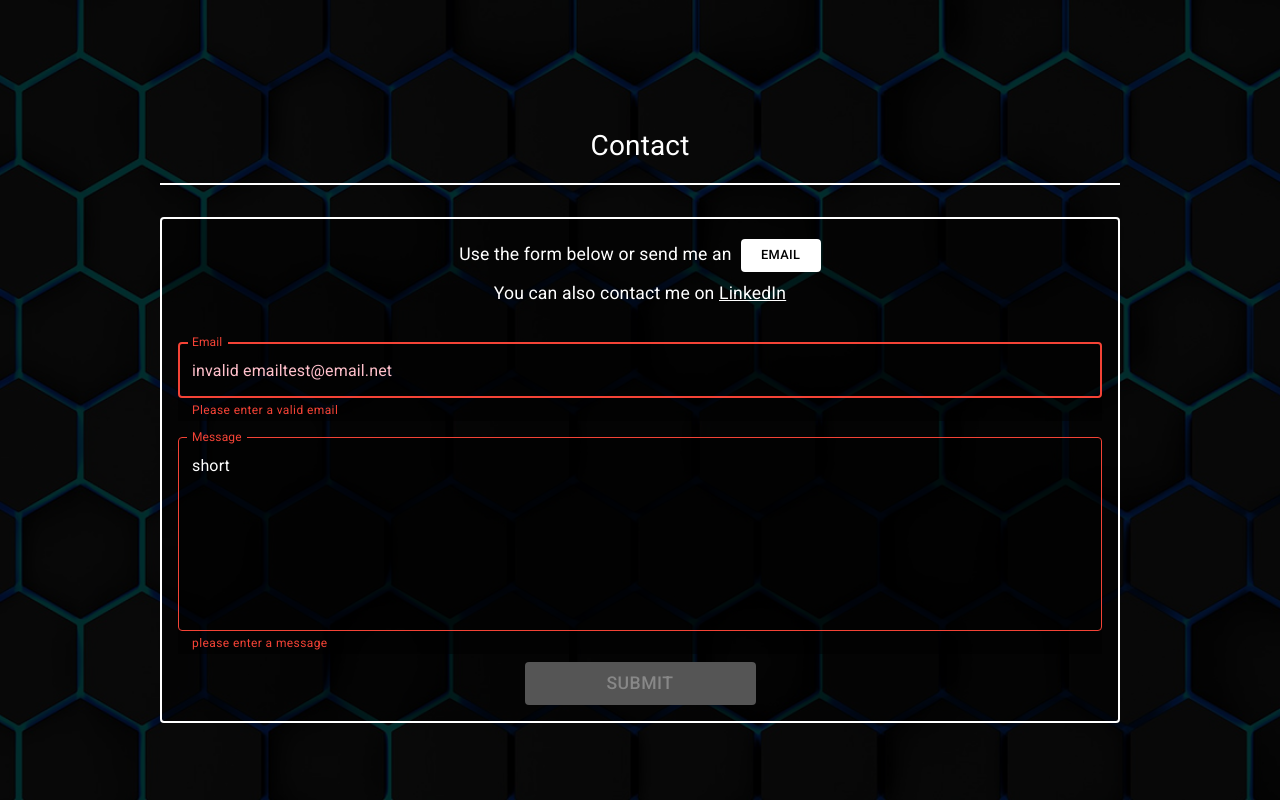
Contact form › focuses the message input, blurs the input, then re-focuses the input and enters a valid message
(page scrolled)
Click the text box named "message": (640, 535) x1=192 y1=454 x2=1088 y2=615
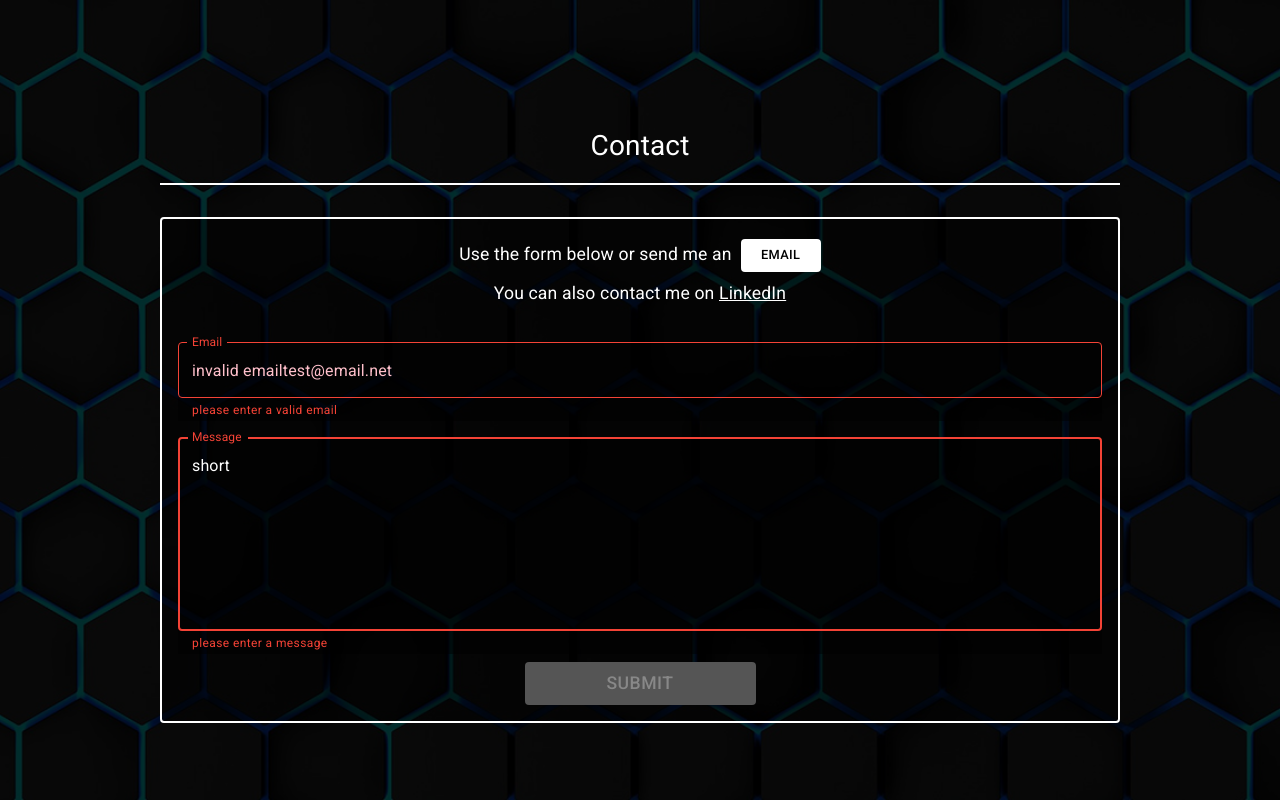
Click the field named "email": (640, 370) x1=178 y1=342 x2=1102 y2=398
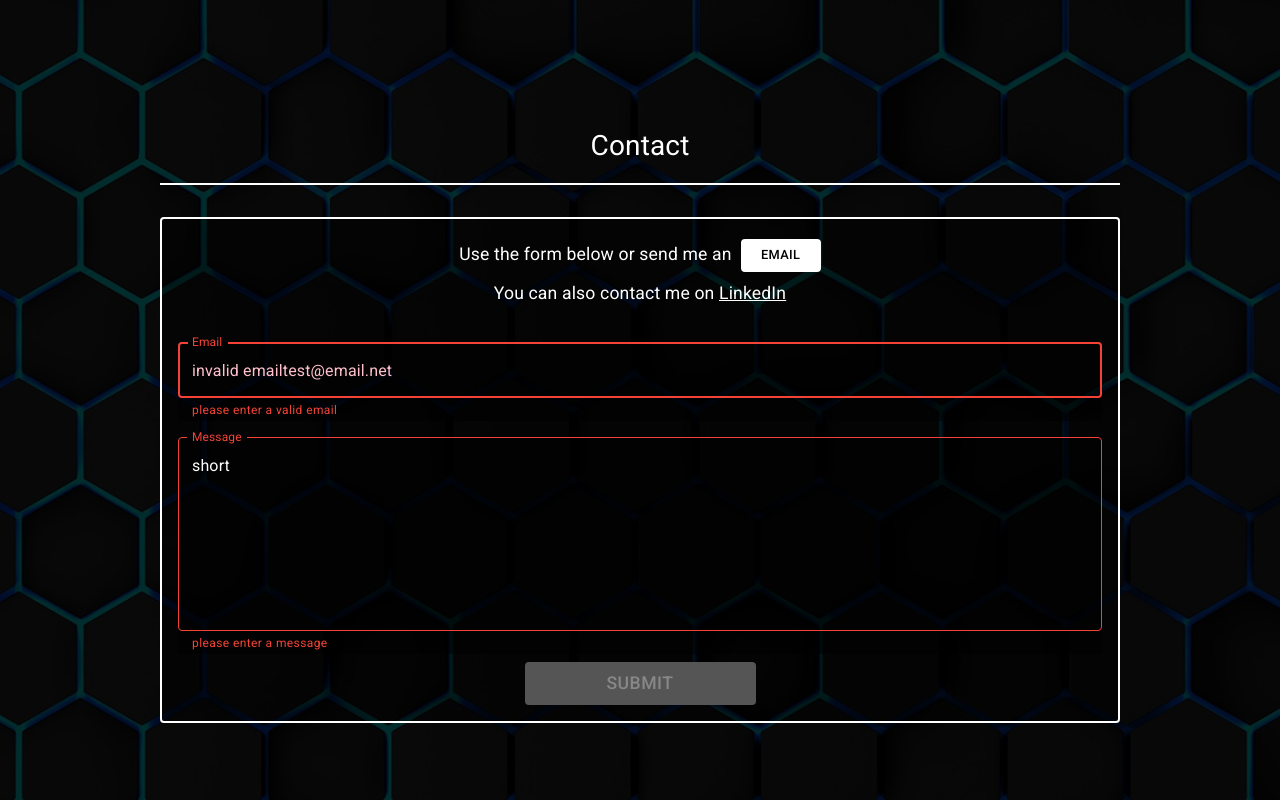
Click the text box named "message": (640, 535) x1=192 y1=454 x2=1088 y2=615
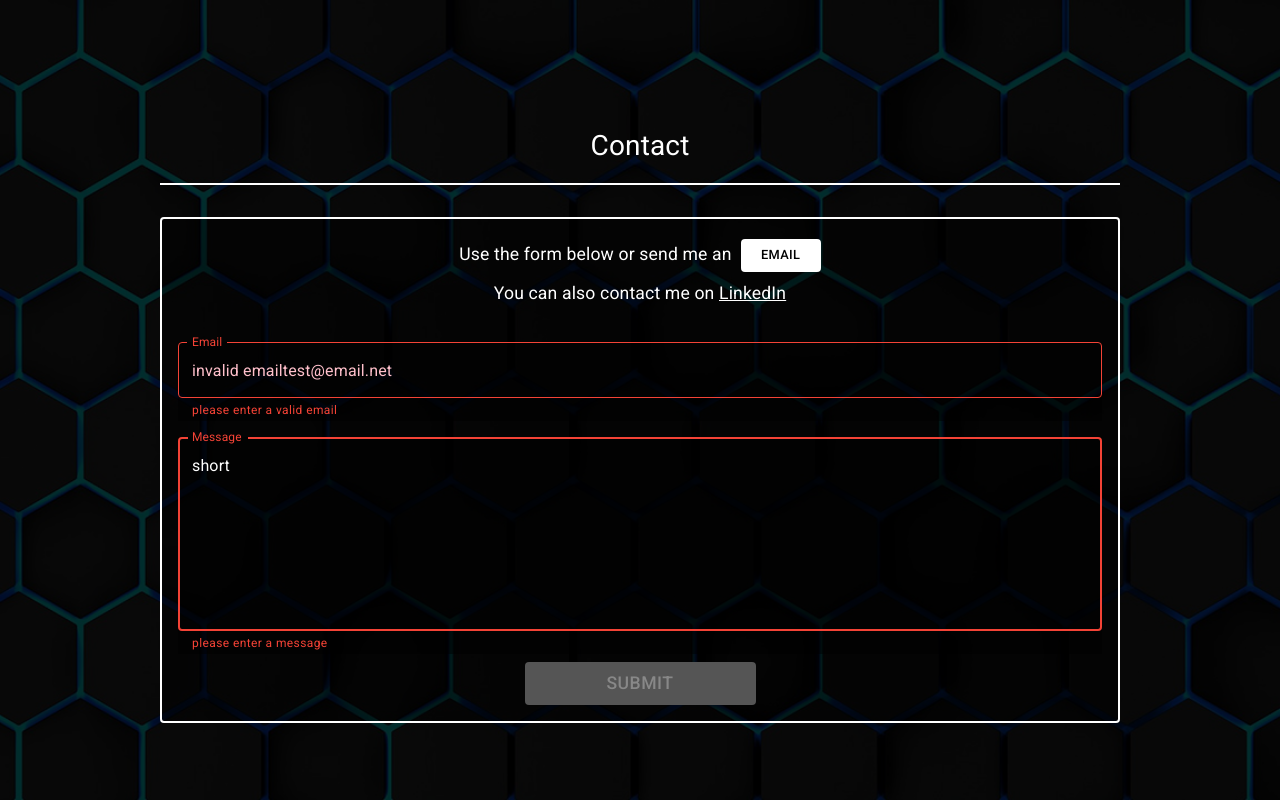
Expected: the text "please enter a message" is shown, x1=192 y1=636 x2=328 y2=650
In the text box named "message": (640, 535) x1=192 y1=454 x2=1088 y2=615, type "a valid test message"
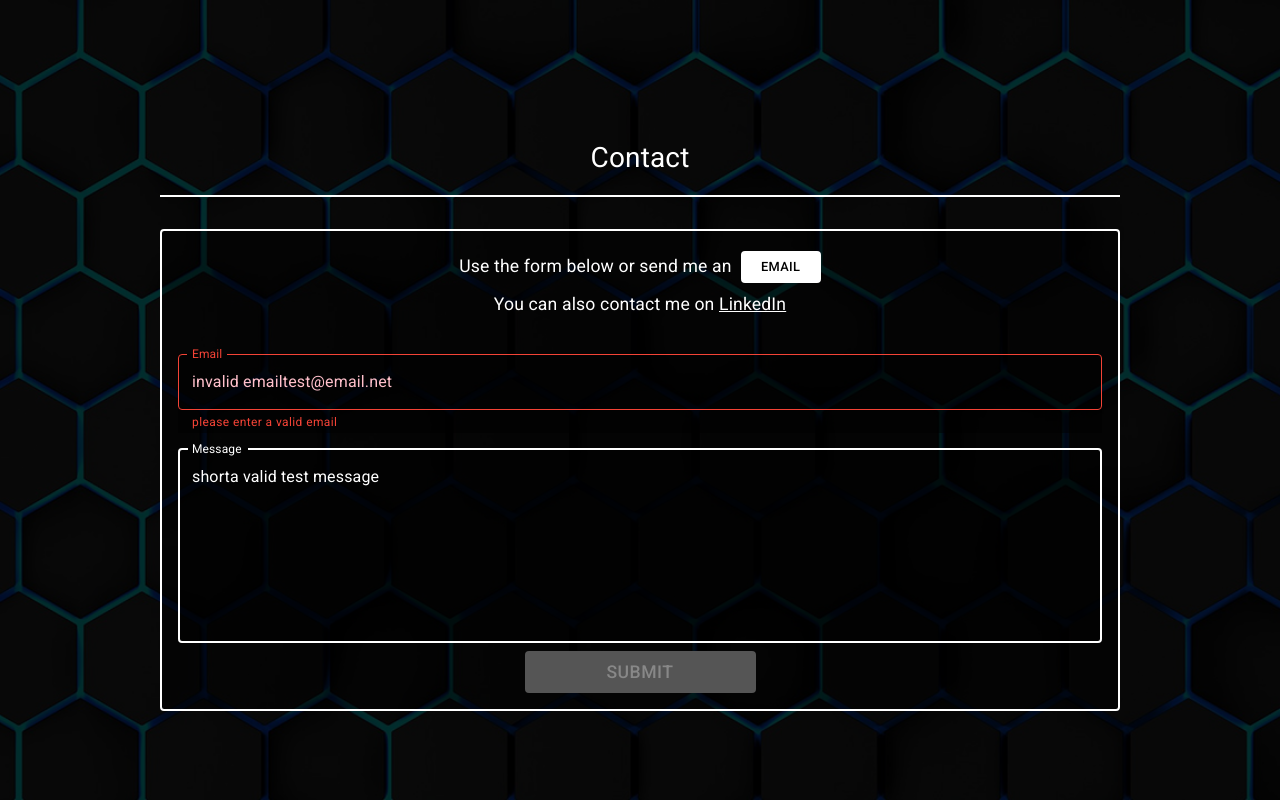
Now the text "please enter a message" is gone
